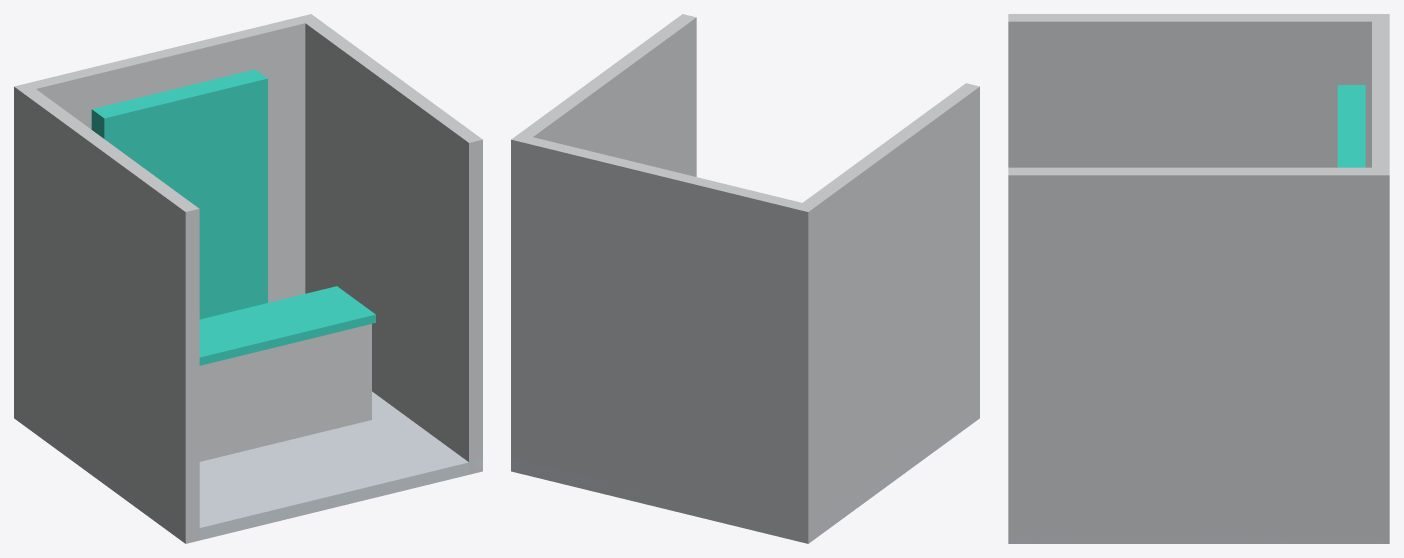
3 renders of one model, left to right at view 1: azimuth 30°, elevation 25°; view 2: azimuth 150°, elevation 25°; view 3: azimuth 270°, elevation 25°, orthographic. The views are drawn at different scales.
Visible parts, largest first — view 1: Exhibition Booth Concept; view 2: Exhibition Booth Concept; view 3: Exhibition Booth Concept.
Boxes of the visible parts, x1,y1,x2,y2 form: Exhibition Booth Concept: [14, 14, 482, 543]; Exhibition Booth Concept: [511, 14, 979, 543]; Exhibition Booth Concept: [1008, 14, 1389, 543].
Size of the model in its own units: 3 by 3.2 by 3.
